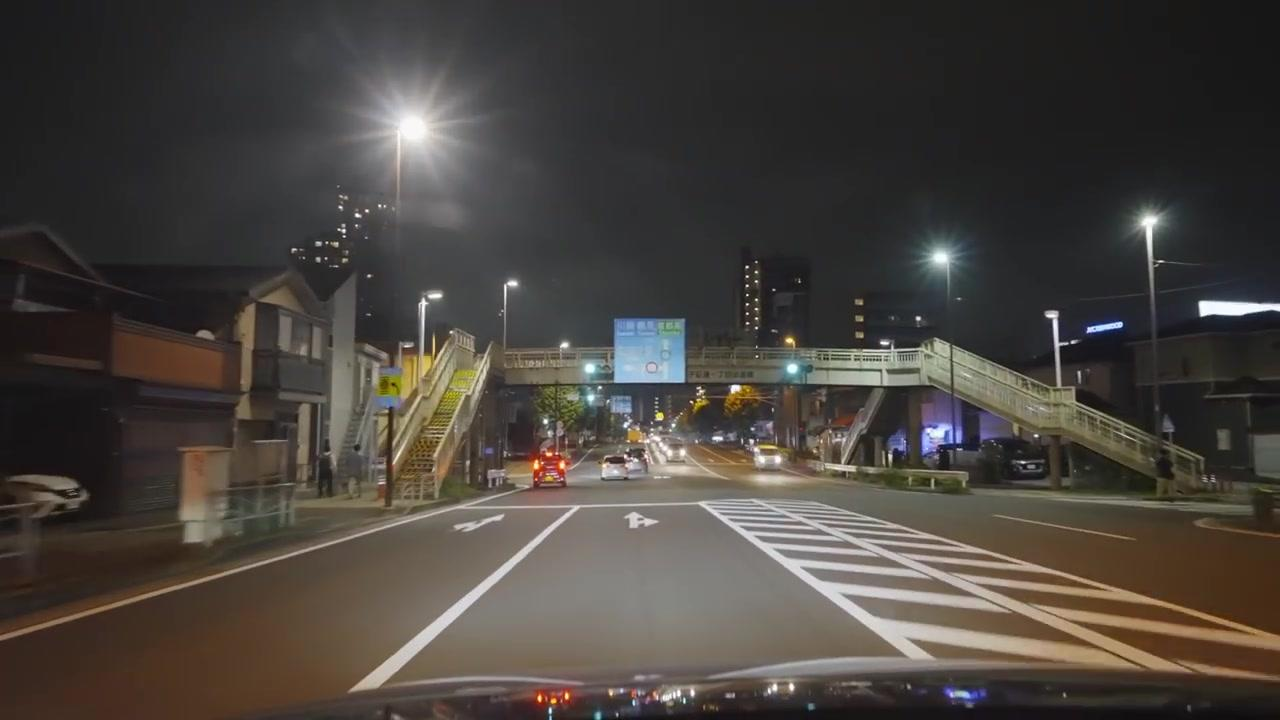car: (532, 452, 568, 488), (616, 452, 648, 477), (600, 453, 630, 479), (752, 448, 786, 470)
person: (343, 443, 366, 499), (1154, 446, 1177, 501), (317, 446, 336, 498)
traffic light: (785, 362, 801, 381)
